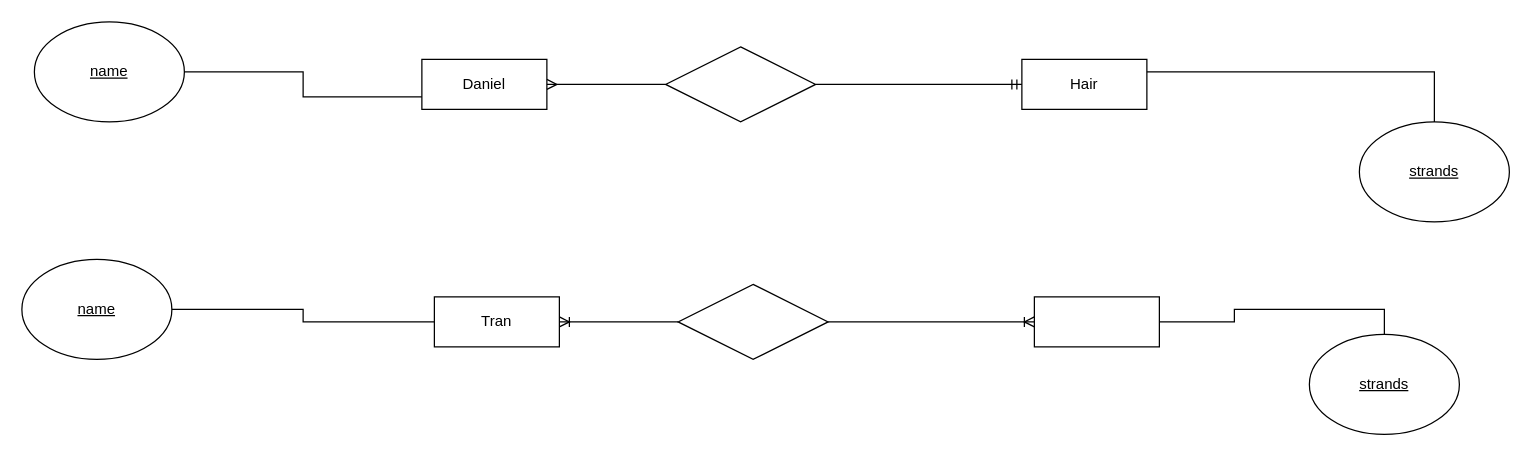
This 1531x456 diagram has some shape labels left out. The centre of each missing label's shape, as x and y in pixels:
"is" goes at point (740, 84).
"No Hair" goes at point (1096, 321).
"twas" goes at point (752, 321).
